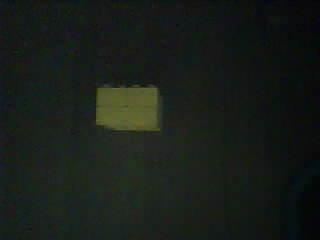lego: (94, 83, 163, 133)
